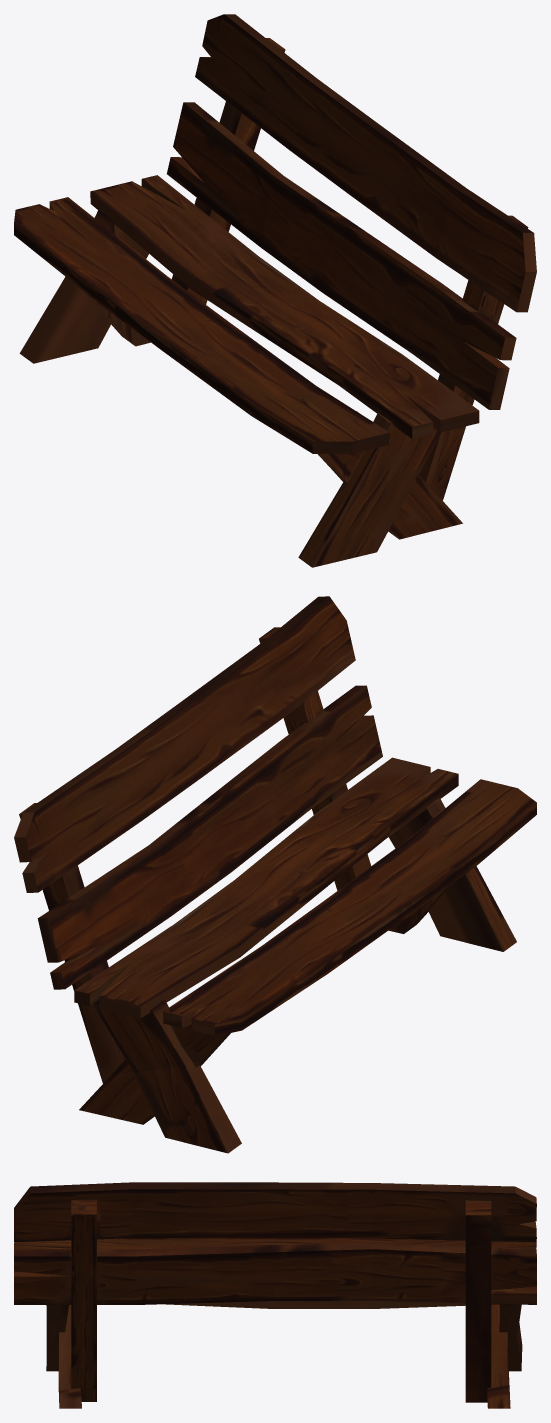
Rendered from skame.fbx.
3 views of the same model, one above another, from view 1: azimuth 30°, elevation 25°; view 2: azimuth 150°, elevation 25°; view 3: azimuth 270°, elevation 25° (orthographic). The views are drawn at different scales.
Parts seen in each view (by area): view 1: Cube; view 2: Cube; view 3: Cube.
Boxes of the visible parts, box(x1,y1,x2,y2) form: Cube: box(14, 14, 536, 567); Cube: box(14, 596, 536, 1153); Cube: box(14, 1182, 536, 1408).
Bounding box in the file's own units: 281 × 333 × 652.
Materials: 1 (1 with a texture image).
